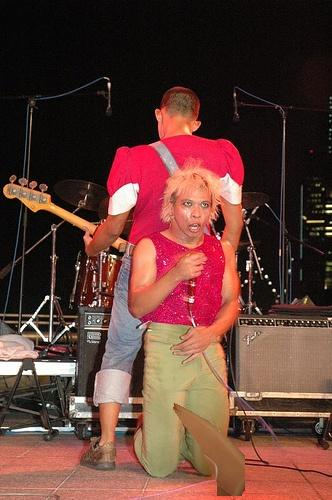tampered: (174, 404, 245, 496)
